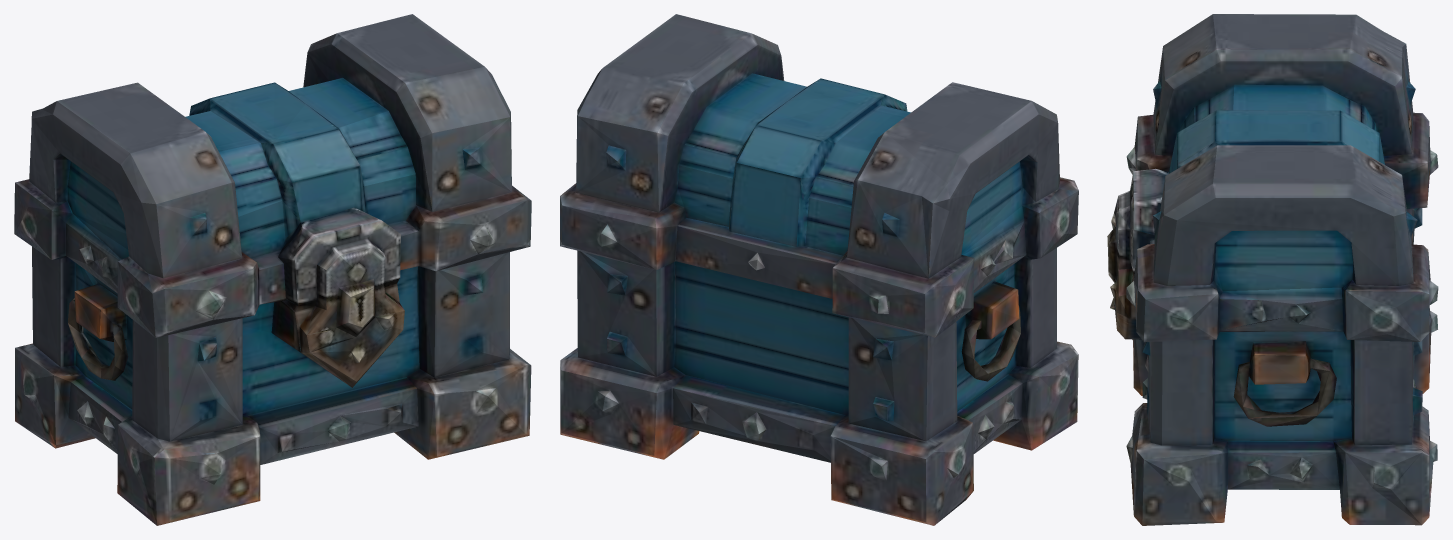
Rendered from chest_blue_iron_lod0.glb.
3 views of the same model, side by side, from view 1: azimuth 30°, elevation 25°; view 2: azimuth 150°, elevation 25°; view 3: azimuth 270°, elevation 25° (orthographic). The views are drawn at different scales.
Parts seen in each view (by area): view 1: chest_blue_iron_lod0; view 2: chest_blue_iron_lod0; view 3: chest_blue_iron_lod0.
Boxes of the visible parts, box(x1,y1,x2,y2) form: chest_blue_iron_lod0: box(14, 14, 531, 525); chest_blue_iron_lod0: box(560, 14, 1078, 525); chest_blue_iron_lod0: box(1107, 14, 1438, 525).
Size of the model in its own units: 0.9 by 0.7703 by 0.6793.
Materials: 1 (1 with a texture image).
